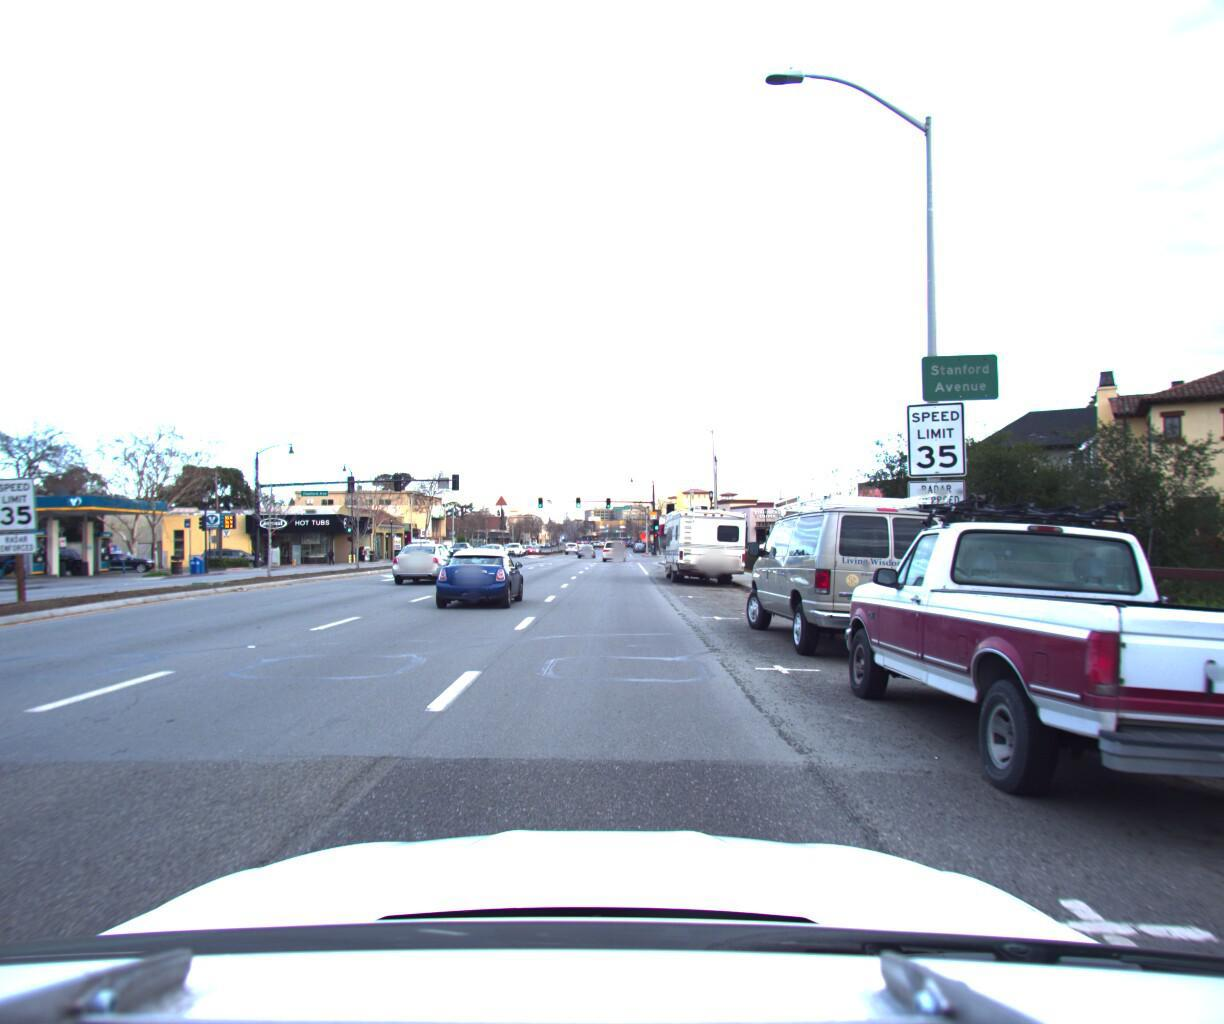car: (829, 469, 1224, 892), (429, 541, 527, 607), (387, 535, 462, 581), (88, 541, 163, 566), (200, 537, 267, 562), (477, 534, 511, 556), (0, 544, 17, 578), (600, 532, 626, 553), (574, 537, 596, 554)
truck: (738, 477, 974, 671), (658, 492, 749, 583)
